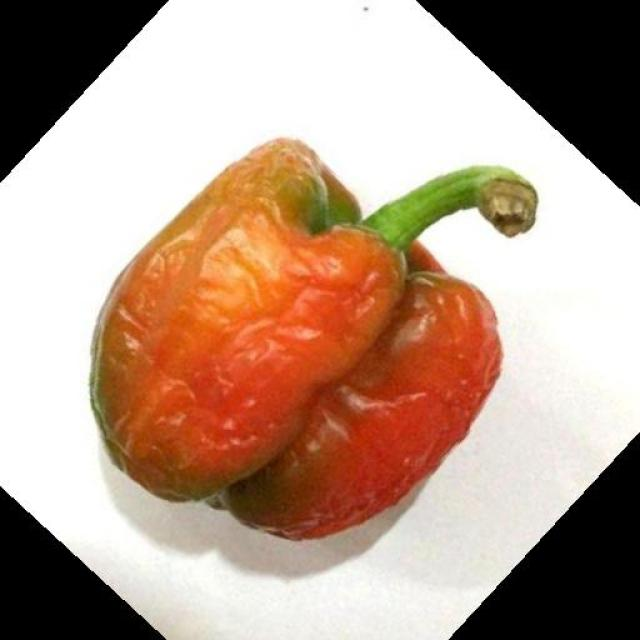Stale_Capsicum: (82, 87, 543, 566)
